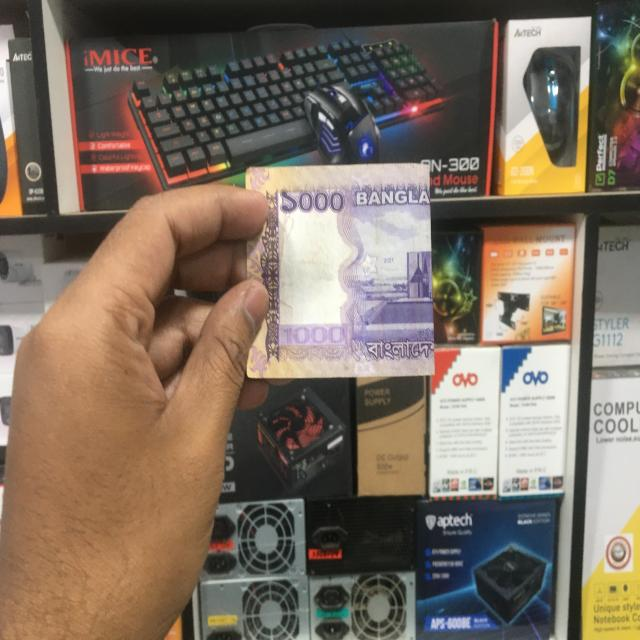Taka: (245, 164, 434, 380)
